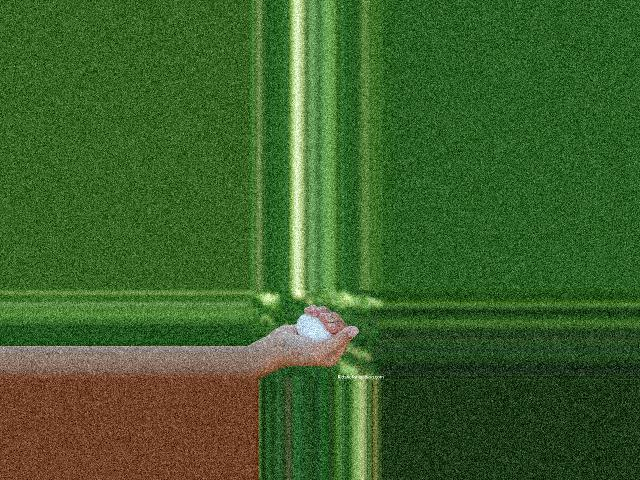egg: (296, 314, 333, 340)
